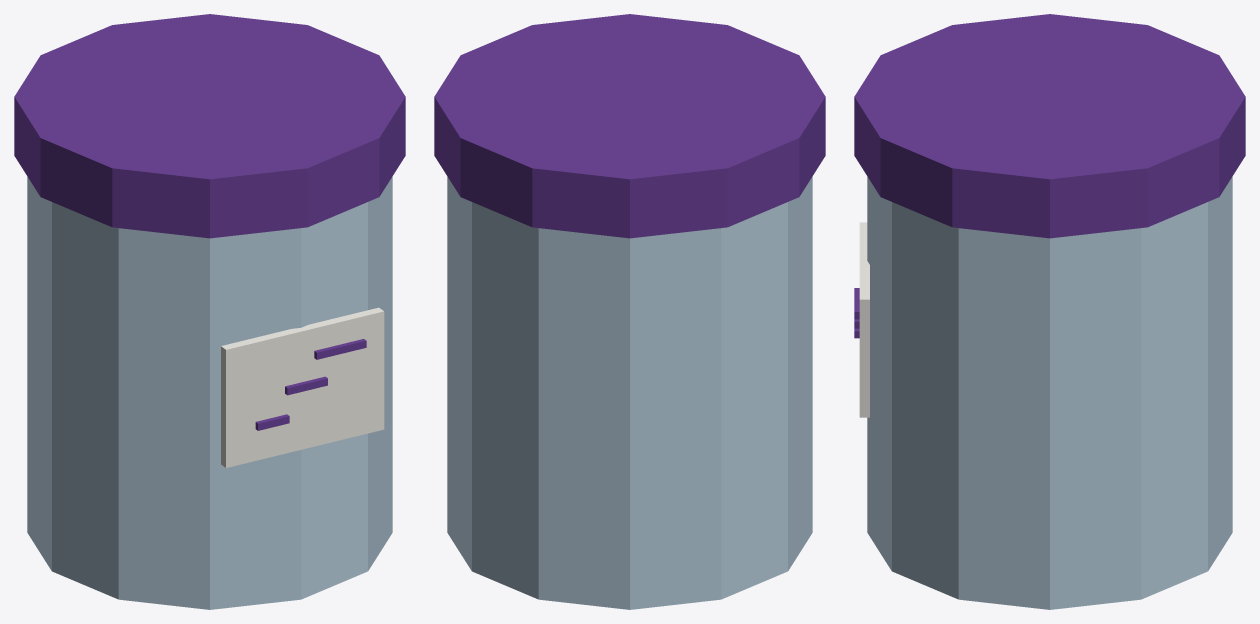
File: sleep_powder_jar.glb
The picture shows the model from 3 angles, left to right: view 1: azimuth 30°, elevation 25°; view 2: azimuth 150°, elevation 25°; view 3: azimuth 270°, elevation 25°; orthographic projection.
Parts seen in each view (by area): view 1: glass_jar_glass, lid_lid_purple, label_photo_white, z_lid_purple; view 2: glass_jar_glass, lid_lid_purple; view 3: glass_jar_glass, lid_lid_purple, label_photo_white.
Part boxes in pixels (<box>): glass_jar_glass: <box>27,176,392,609</box>; lid_lid_purple: <box>14,14,405,238</box>; label_photo_white: <box>221,307,384,467</box>; z_lid_purple: <box>314,339,366,359</box>; glass_jar_glass: <box>447,176,812,609</box>; lid_lid_purple: <box>434,14,825,238</box>; glass_jar_glass: <box>867,176,1232,609</box>; lid_lid_purple: <box>854,14,1245,238</box>; label_photo_white: <box>859,222,869,417</box>.
Bounding box in the file's own units: 0.15 × 0.1845 × 0.15.
